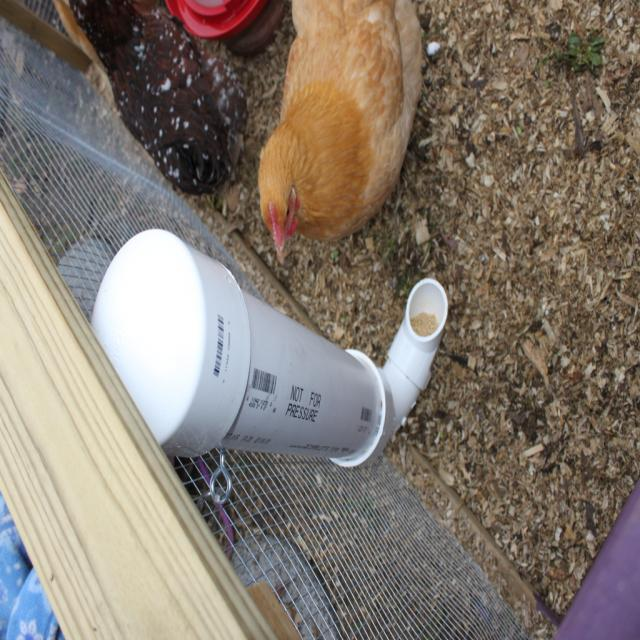Chicken: (250, 4, 416, 260)
